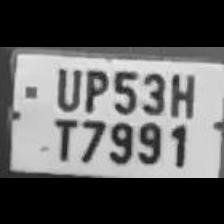1: (163, 120, 193, 166)
3: (138, 67, 166, 113)
5: (107, 65, 139, 113)
7: (74, 114, 104, 162)
9: (104, 116, 132, 164), (134, 116, 162, 164)
H: (166, 67, 198, 119)
P: (79, 64, 109, 112)
T: (46, 111, 78, 160)
U: (50, 62, 82, 110)
